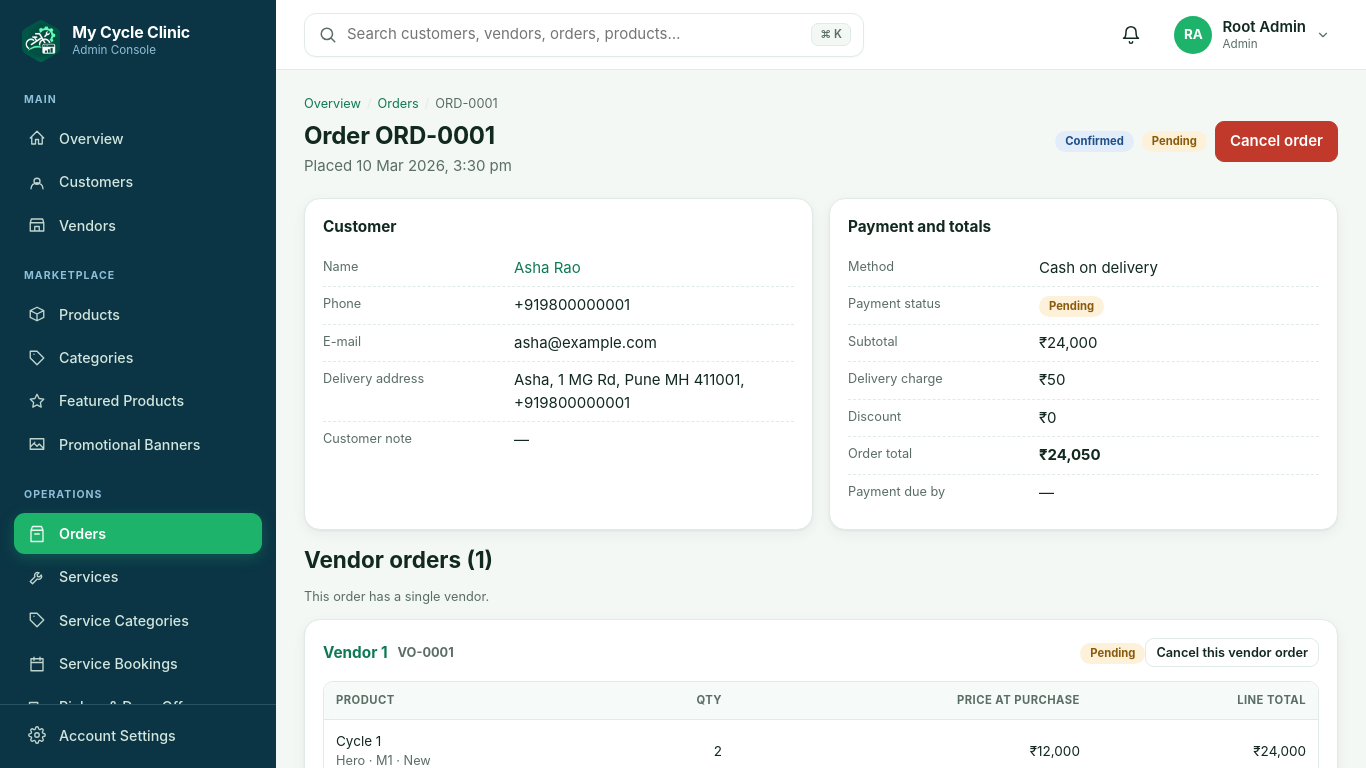
order details › cancelling the order needs a reason and sends one admin request; the page refreshes from the backend
This screenshot has width=1366, height=768.
Click the button "Cancel order": (1276, 141) [1215,121,1338,162]
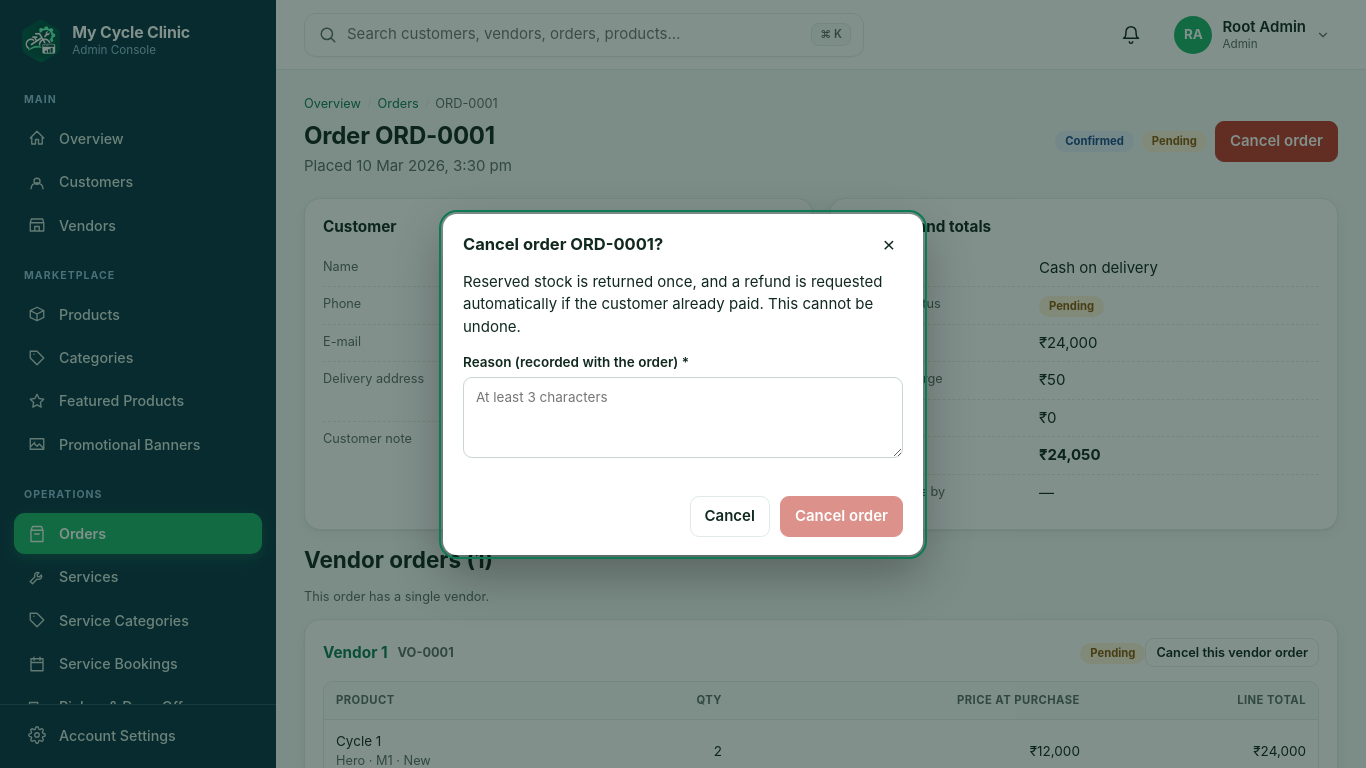
Result: the button "Cancel order" is disabled at [780,496,903,536]
In the text box: (683, 418) [463,377,903,458], type "Fraud suspected"
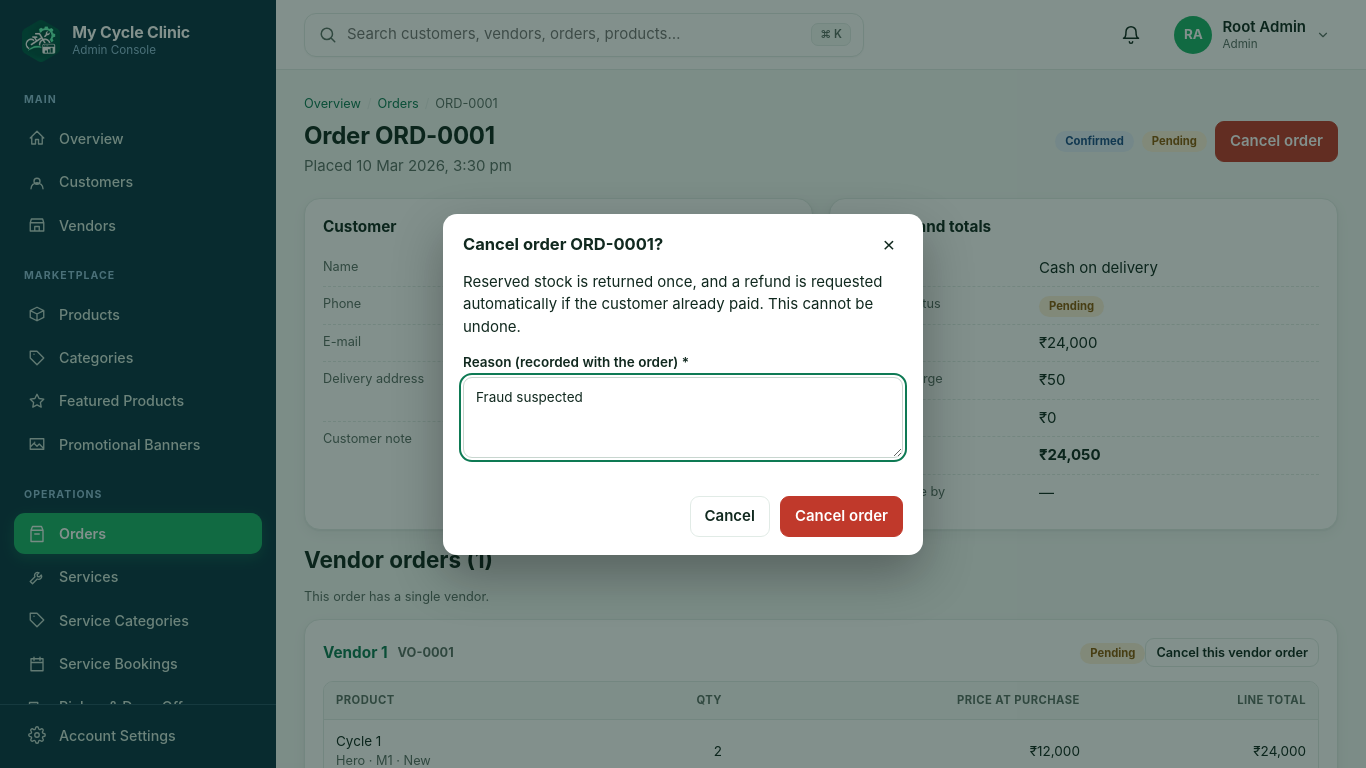
Click the button "Cancel order": (841, 516) [780,496,903,536]
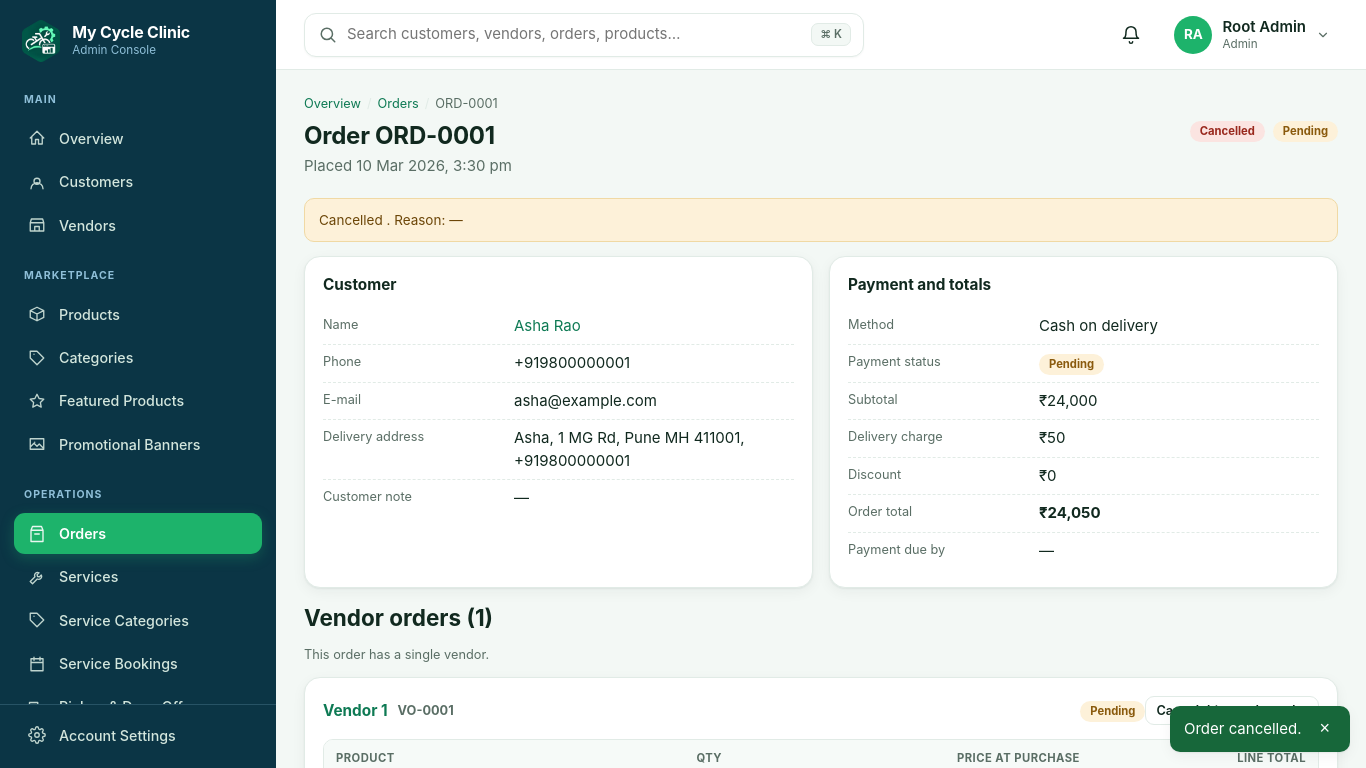
Result: the text "Cancelled" is shown at [1190,121,1265,142]
Result: the button "Cancel order" is gone
